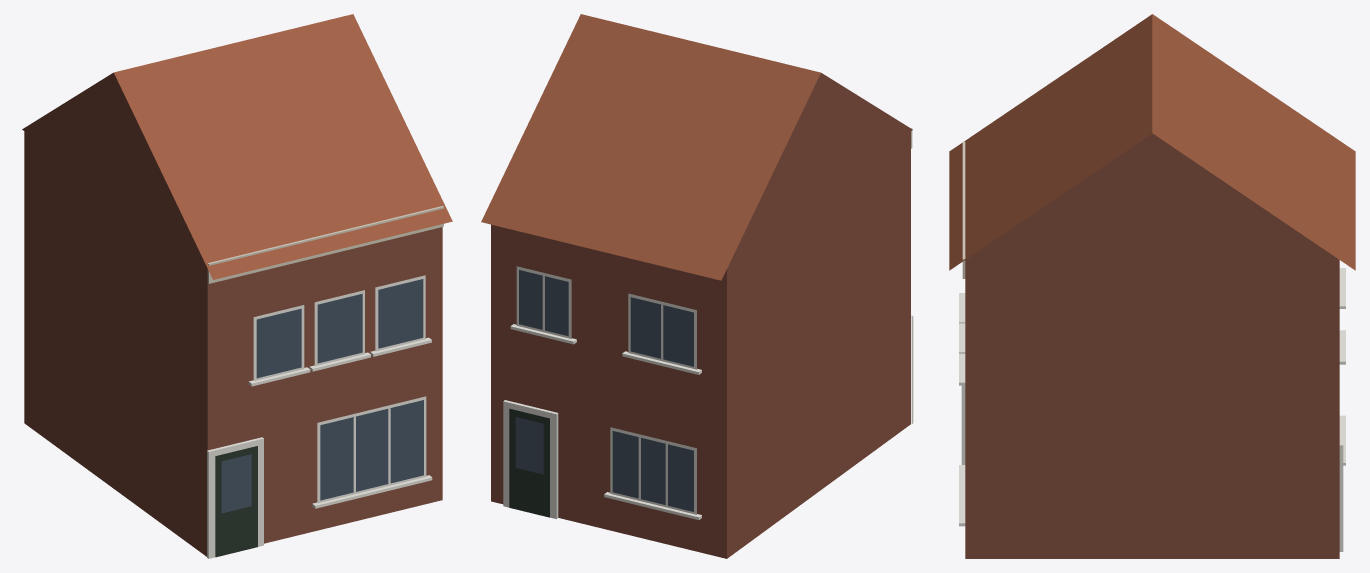
The model's file is nd-bz-brick-row__green-door__2__gable__long__solid.glb.
3 views of the same model, side by side, from view 1: azimuth 30°, elevation 25°; view 2: azimuth 150°, elevation 25°; view 3: azimuth 270°, elevation 25° (orthographic). The views are drawn at different scales.
Parts seen in each view (by area): view 1: nd-bz-brick-row__green-door__2__gable__long__solid; view 2: nd-bz-brick-row__green-door__2__gable__long__solid; view 3: nd-bz-brick-row__green-door__2__gable__long__solid.
Part boxes in pixels (x1=…): nd-bz-brick-row__green-door__2__gable__long__solid: x1=22, y1=14, x2=452, y2=558; nd-bz-brick-row__green-door__2__gable__long__solid: x1=481, y1=14, x2=913, y2=558; nd-bz-brick-row__green-door__2__gable__long__solid: x1=949, y1=14, x2=1355, y2=558.
Bounding box in the file's own units: 5.32 × 8.88 × 7.66.
